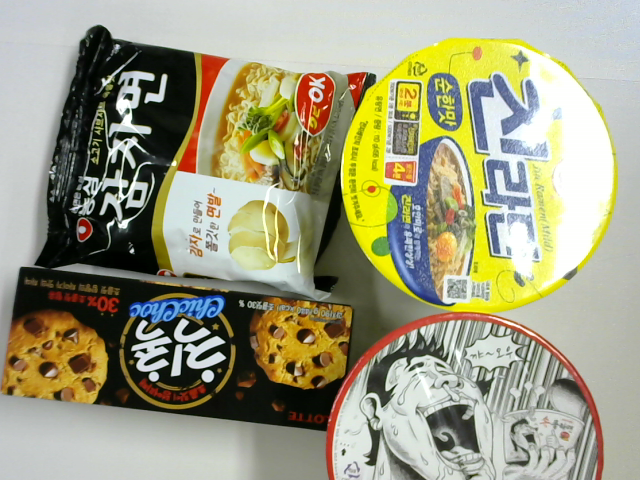Chicchok_Original_2400: (1, 268, 353, 433)
Hejangpul: (327, 312, 602, 480)
Jinlamyeon_Mild_Taste_Large_Cup: (338, 37, 617, 315)
Potato: (35, 25, 380, 298)
